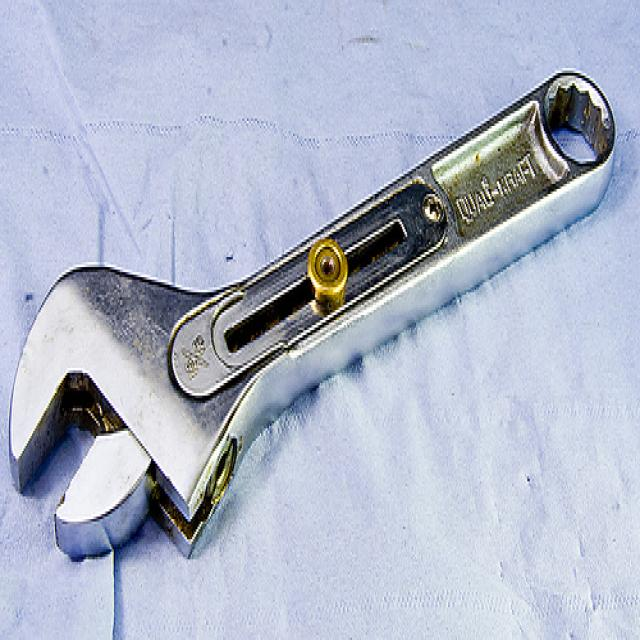wrench: (5, 43, 616, 640)
